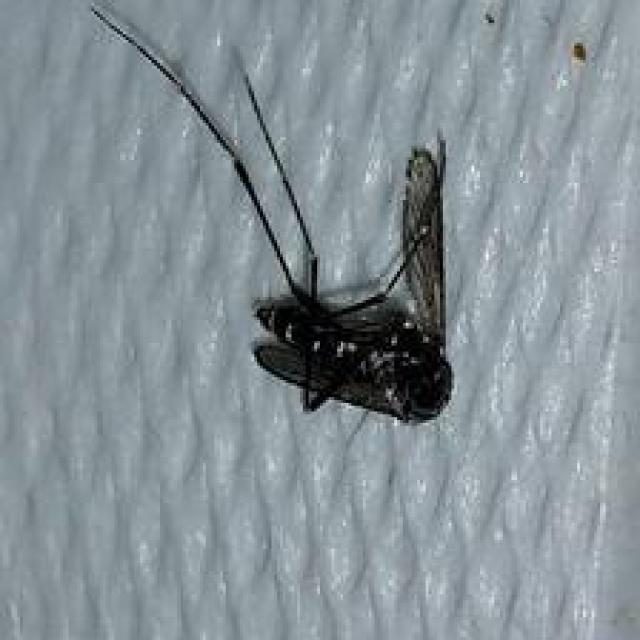Aedes albopictus: (87, 0, 456, 429)
